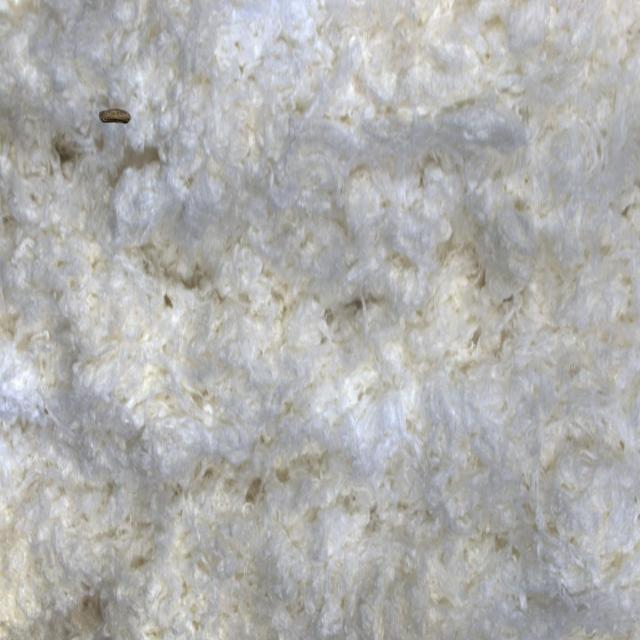dust: (86, 82, 142, 156)
